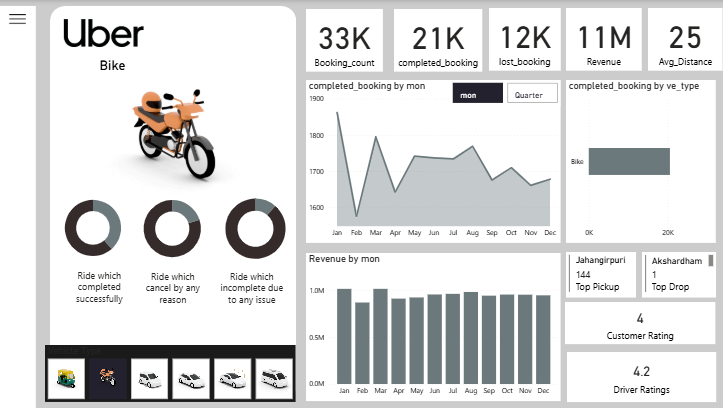

This screenshot's page, from the dashboard's own definition file:
{"tool":"powerbi","page":{"name":"Overview","canvas":[1280,720],"ordinal":1},"visuals":[{"type":"shape","box":[97.5,10,432.5,695],"z":0},{"type":"shape","box":[10,10,62.9,710],"z":1000},{"type":"image","box":[10,10,62.9,47.1],"z":2000},{"type":"card","fields":{"Values":["_measues.Booking_count"]},"box":[547.5,15,135,110],"z":3000},{"type":"card","fields":{"Values":["_measues.completed_booking"]},"box":[702.5,15,155,110],"z":4000},{"type":"image","box":[117.5,17.5,150,80],"z":5000},{"type":"card","fields":{"Values":["_measues.lost_booking"]},"box":[868.6,14.3,125.7,110],"z":6000},{"type":"card","fields":{"Values":["_measues.Booking_value"]},"box":[1004.3,14.3,132.9,110],"z":7000},{"type":"card","fields":{"Values":["Avg(Uber.Ride Distance)"]},"box":[1148.6,14.3,131.4,110],"z":8000},{"type":"advancedSlicerVisual","fields":{"Values":["IMG.Vehicle Type"]},"box":[90,605,440,100],"z":9000},{"type":"cardVisual","fields":{"Data":["Min(IMG.Img)"]},"box":[107.5,57.5,412.5,290],"z":10000},{"type":"card","fields":{"Values":["Min(IMG.Vehicle Type)"]},"box":[72.5,57.5,272.5,112.5],"z":11000},{"type":"areaChart","fields":{"Category":["Uber.mon"],"Y":["_measues.completed_booking"]},"box":[547.1,140,447.1,285.7],"z":12000},{"type":"columnChart","fields":{"Category":["Uber.mon"],"Y":["_measues.Booking_value"]},"box":[547.1,444.3,447.1,260],"z":13000},{"type":"advancedSlicerVisual","fields":{"Values":["Date_Axis 2.Date_Axis"]},"box":[800,140,194.3,45.7],"z":14000},{"type":"barChart","fields":{"Category":["Uber.ve_type"],"Y":["_measues.completed_booking"]},"box":[1004.3,140,262.9,285.7],"z":15000},{"type":"multiRowCard","fields":{"Values":["Uber.Pickup Location","_measues.completed_booking"]},"box":[1004.4,443.3,123.3,80],"z":16000},{"type":"multiRowCard","fields":{"Values":["Uber.Drop Location","_measues.completed_booking"]},"box":[1137.8,442.2,130,80],"z":17000},{"type":"card","fields":{"Values":["Avg(Uber.Customer Rating)"]},"box":[1003.3,531.1,264.4,74.4],"z":18000},{"type":"card","fields":{"Values":["Avg(Uber.Driver Ratings)"]},"box":[1005.6,617.8,262.2,87.8],"z":19000},{"type":"donutChart","fields":{"Y":["CountNonNull(Uber.Booking Status)","_measues.booking_remove_status_filter"]},"box":[106.7,333.3,133.3,133.3],"z":20000},{"type":"donutChart","fields":{"Y":["_measues.Booking_count","_measues.booking_remove_status_filter"]},"box":[387.8,315.6,142.2,171.1],"z":21000},{"type":"donutChart","fields":{"Y":["_measues.Booking_count","_measues.booking_remove_status_filter"]},"box":[233.3,333.3,158.9,135.6],"z":22000},{"type":"textbox","box":[130,467.1,110,82.9],"z":23000},{"type":"textbox","box":[260,468.6,108.6,85.7],"z":24000},{"type":"textbox","box":[387.1,468.6,132.9,85.7],"z":25000}]}

Visuals, with their boxes in screenshot pixels (x1, y1, x2, y2), scaled from the page's 1280x720 canvas onto the 723x408 screenshot:
shape: bbox=(55, 6, 299, 400)
shape: bbox=(6, 6, 41, 407)
image: bbox=(6, 6, 41, 32)
card - _measues.Booking_count: bbox=(309, 8, 386, 71)
card - _measues.completed_booking: bbox=(397, 8, 484, 71)
image: bbox=(66, 10, 151, 55)
card - _measues.lost_booking: bbox=(491, 8, 562, 70)
card - _measues.Booking_value: bbox=(567, 8, 642, 70)
card - Avg(Uber.Ride Distance): bbox=(649, 8, 722, 70)
advancedSlicerVisual - IMG.Vehicle Type: bbox=(51, 343, 299, 400)
cardVisual - Min(IMG.Img): bbox=(61, 33, 294, 197)
card - Min(IMG.Vehicle Type): bbox=(41, 33, 195, 96)
areaChart - Uber.mon x _measues.completed_booking: bbox=(309, 79, 562, 241)
columnChart - Uber.mon x _measues.Booking_value: bbox=(309, 252, 562, 399)
advancedSlicerVisual - Date_Axis 2.Date_Axis: bbox=(452, 79, 562, 105)
barChart - Uber.ve_type x _measues.completed_booking: bbox=(567, 79, 716, 241)
multiRowCard - Uber.Pickup Location x _measues.completed_booking: bbox=(567, 251, 637, 297)
multiRowCard - Uber.Drop Location x _measues.completed_booking: bbox=(643, 251, 716, 296)
card - Avg(Uber.Customer Rating): bbox=(567, 301, 716, 343)
card - Avg(Uber.Driver Ratings): bbox=(568, 350, 716, 400)
donutChart - CountNonNull(Uber.Booking Status) x _measues.booking_remove_status_filter: bbox=(60, 189, 136, 264)
donutChart - _measues.Booking_count x _measues.booking_remove_status_filter: bbox=(219, 179, 299, 276)
donutChart - _measues.Booking_count x _measues.booking_remove_status_filter: bbox=(132, 189, 222, 266)
textbox: bbox=(73, 265, 136, 312)
textbox: bbox=(147, 266, 208, 314)
textbox: bbox=(219, 266, 294, 314)
